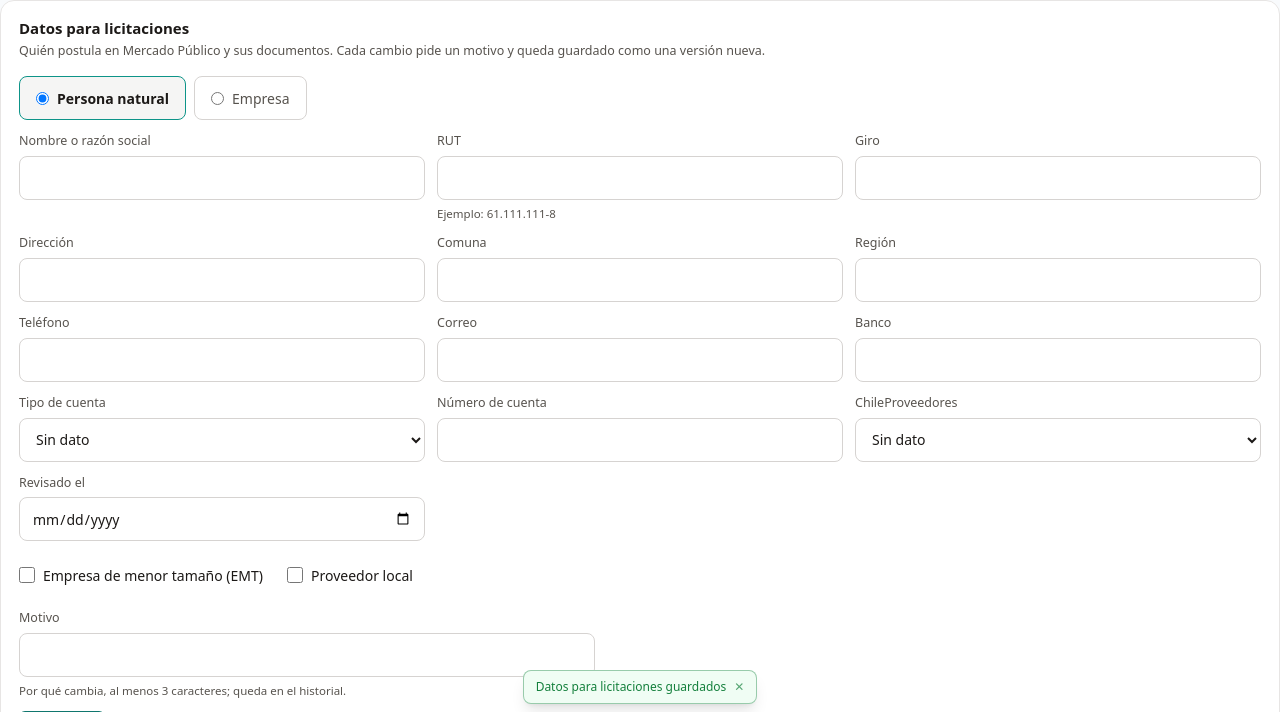
BidderPreferences › shows the company fields only for «Empresa»
Expected: the field labelled "RUT" is shown, [437,156,843,200]
Expected: the field labelled "Representante legal" is not shown
Click the radio button labelled "Empresa": coordinates (218, 98) [211,92,224,105]
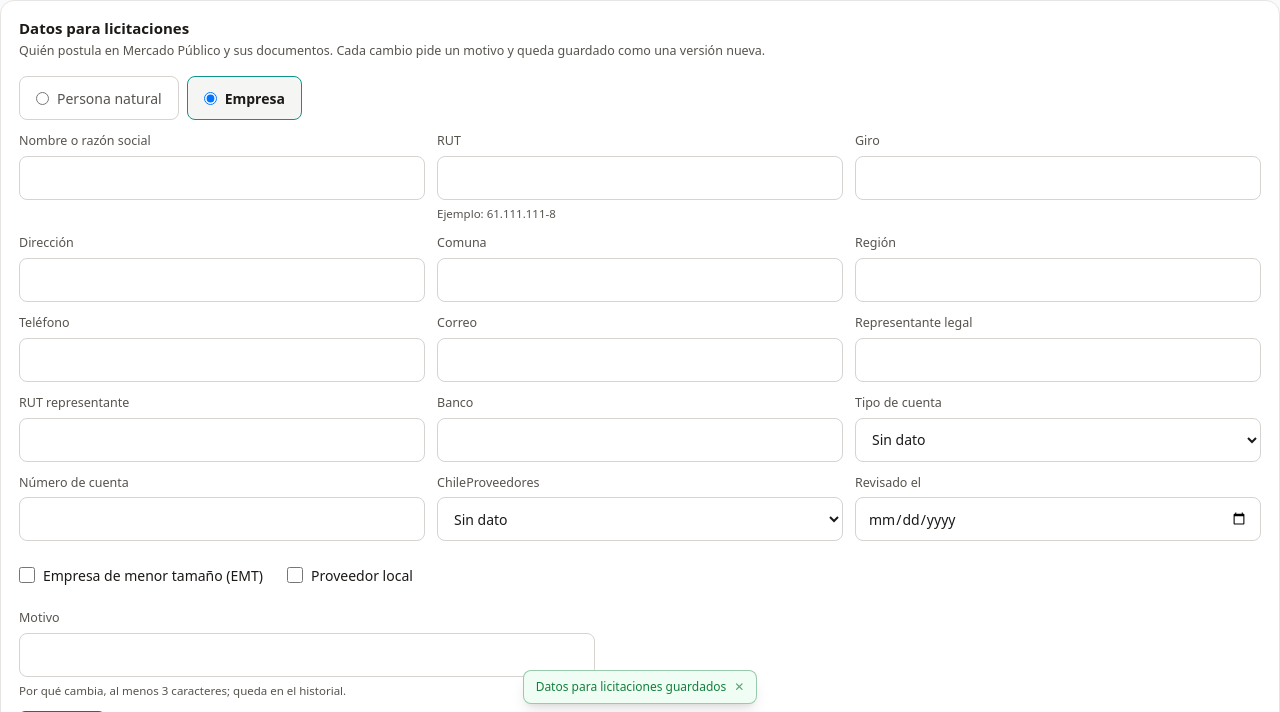
Expected: the field labelled "Representante legal" is shown, [855,338,1261,382]
Now the field labelled "RUT representante" is shown, box [19,418,425,462]
Click the radio button labelled "Persona natural": coordinates (42, 98) [36,92,49,105]
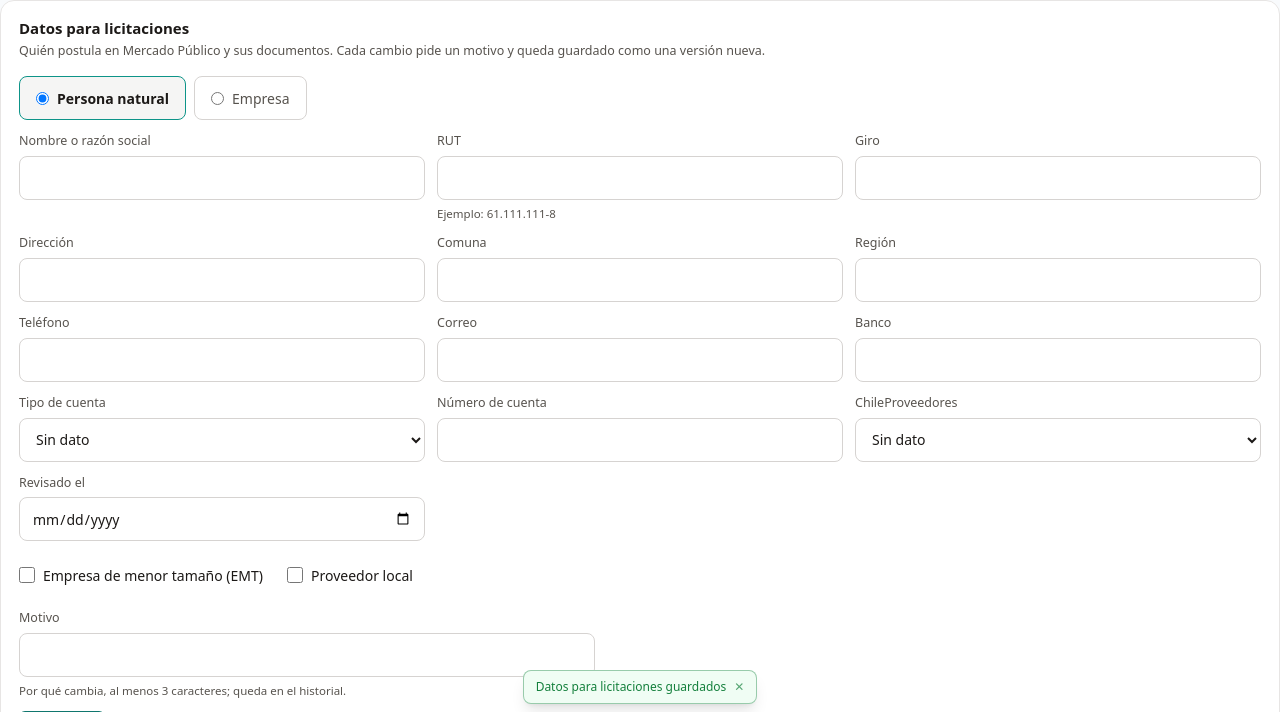
Now the label labelled "Representante legal" is gone
